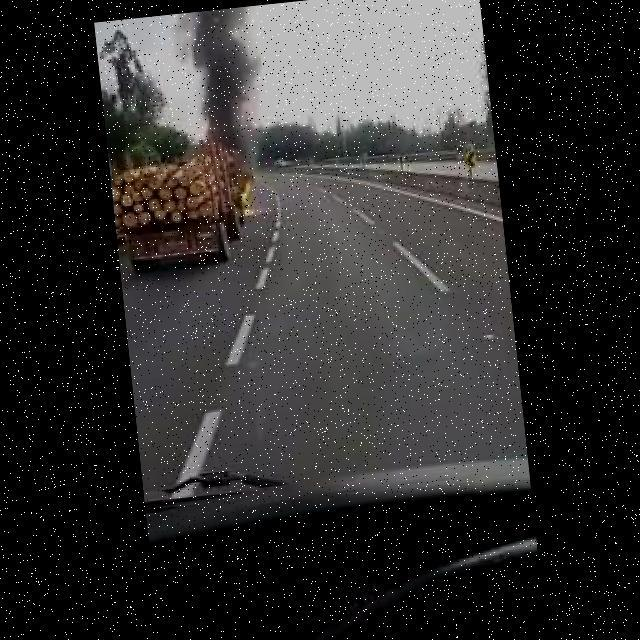Fire: (241, 176, 259, 215)
Smoke: (187, 6, 278, 150)
